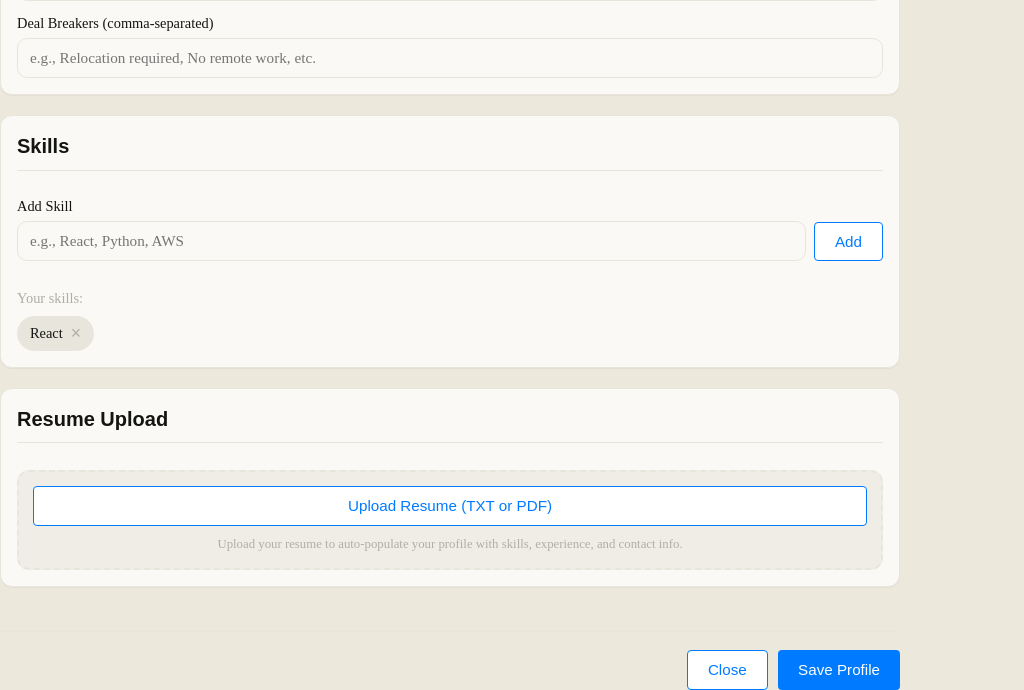
ProfileView › shows error message when save fails
The width and height of the screenshot is (1024, 690).
(page scrolled)
Click the button "Save Profile" at (839, 670), box 778,650 -> 900,689
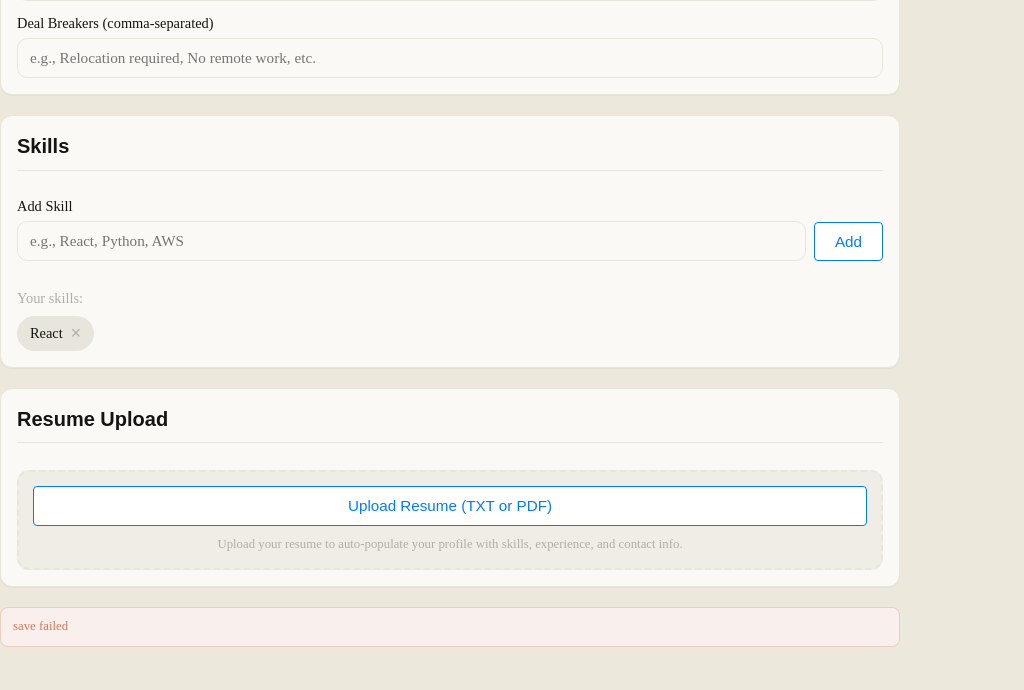
Now the text "save failed" is shown, box 0,607 -> 900,647
